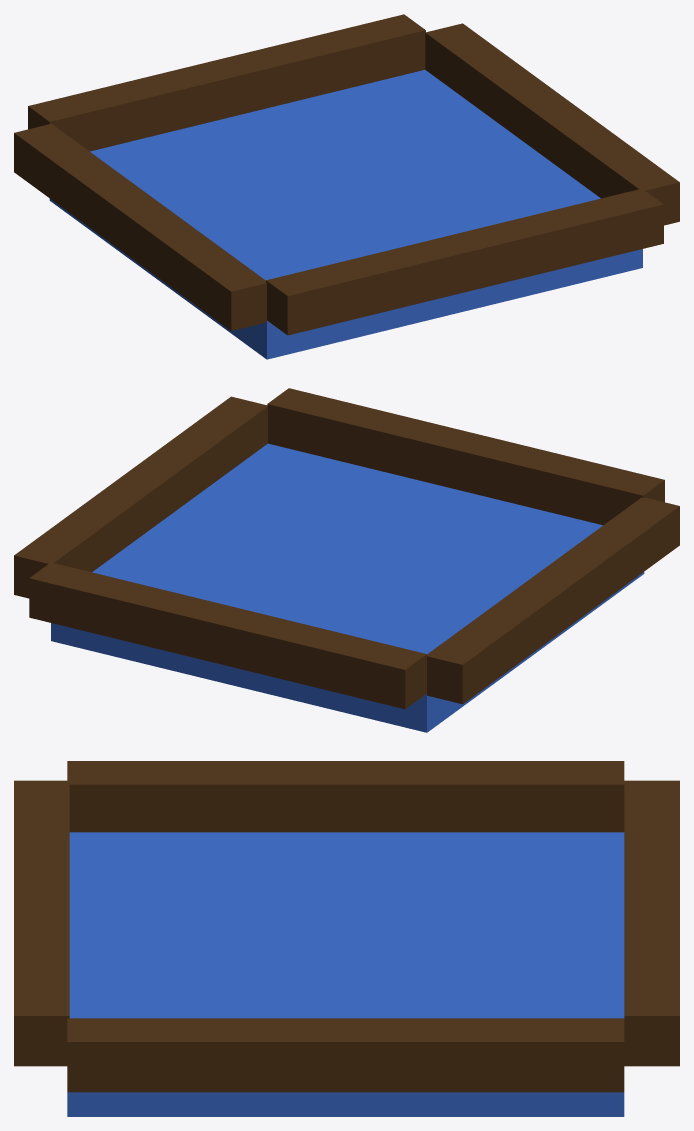
The model's file is Ground_Base_Cube.fbx.
The picture shows the model from 3 angles, top to bottom: view 1: azimuth 30°, elevation 25°; view 2: azimuth 150°, elevation 25°; view 3: azimuth 270°, elevation 25°; orthographic projection. The views are drawn at different scales.
Parts seen in each view (by area): view 1: Ground_Base_Cube, Boundary_EastWall, Boundary_WestWall, BoundarySouthWall, Boundary_NorthWall; view 2: Ground_Base_Cube, Boundary_WestWall, Boundary_EastWall, BoundarySouthWall, Boundary_NorthWall; view 3: Ground_Base_Cube, Boundary_NorthWall, BoundarySouthWall, Boundary_WestWall, Boundary_EastWall.
Boxes of the visible parts, bbox=[...] form: Ground_Base_Cube: bbox=[49, 70, 642, 359]; Boundary_EastWall: bbox=[266, 188, 663, 335]; Boundary_WestWall: bbox=[28, 14, 425, 151]; BoundarySouthWall: bbox=[14, 123, 266, 330]; Boundary_NorthWall: bbox=[425, 23, 679, 225]; Ground_Base_Cube: bbox=[51, 443, 644, 732]; Boundary_WestWall: bbox=[29, 562, 426, 709]; Boundary_EastWall: bbox=[267, 388, 664, 525]; BoundarySouthWall: bbox=[427, 497, 679, 704]; Boundary_NorthWall: bbox=[14, 396, 267, 598]; Ground_Base_Cube: bbox=[67, 832, 624, 1116]; Boundary_NorthWall: bbox=[67, 1018, 624, 1092]; BoundarySouthWall: bbox=[67, 761, 624, 832]; Boundary_WestWall: bbox=[624, 780, 679, 1066]; Boundary_EastWall: bbox=[14, 780, 69, 1066].
Size of the model in its own units: 3579 by 600 by 3588.
